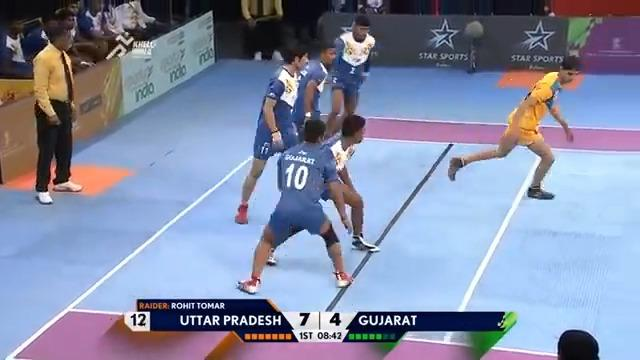Player: (235, 117, 354, 294), (234, 44, 309, 224), (320, 113, 380, 252), (324, 13, 376, 138), (291, 39, 337, 141)
Raider: (447, 54, 582, 199)
referee: (31, 12, 84, 204)
